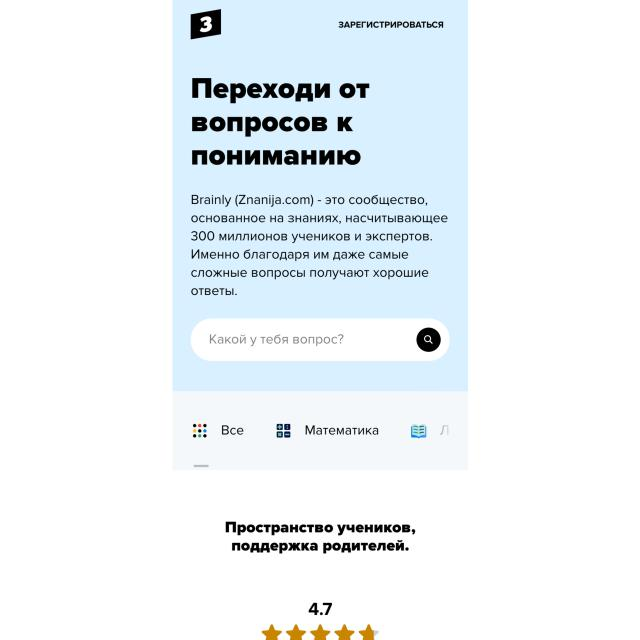CheckBox: (336, 20, 446, 31), (415, 327, 441, 352)
CheckedTextView: (189, 317, 450, 364)
Input field: (190, 191, 450, 300)
bag: (170, 0, 468, 53)
breadcrumbs: (222, 517, 416, 556)
carousel: (422, 334, 434, 346)
date picker: (188, 7, 224, 40)
decoration: (173, 390, 468, 471)
footer: (208, 332, 350, 346)
image: (190, 73, 370, 173)
